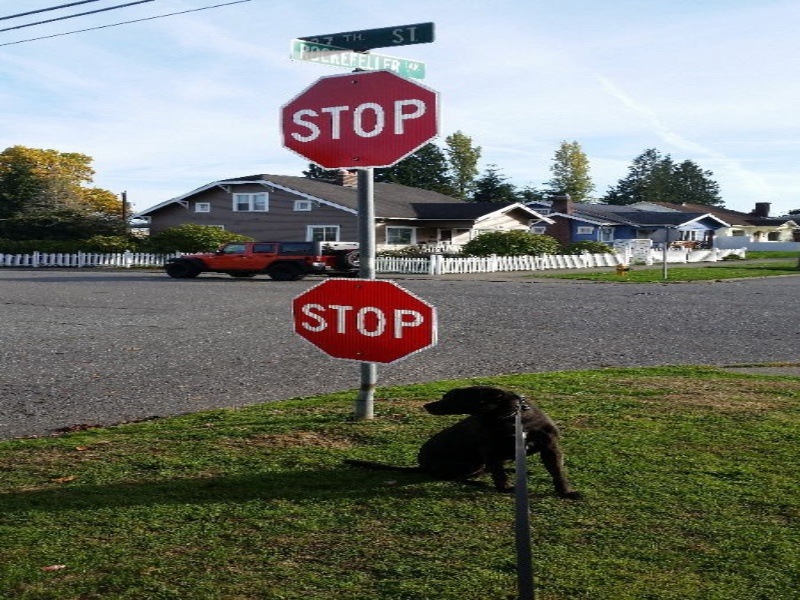stop sign: (276, 67, 443, 172), (286, 275, 438, 369)
